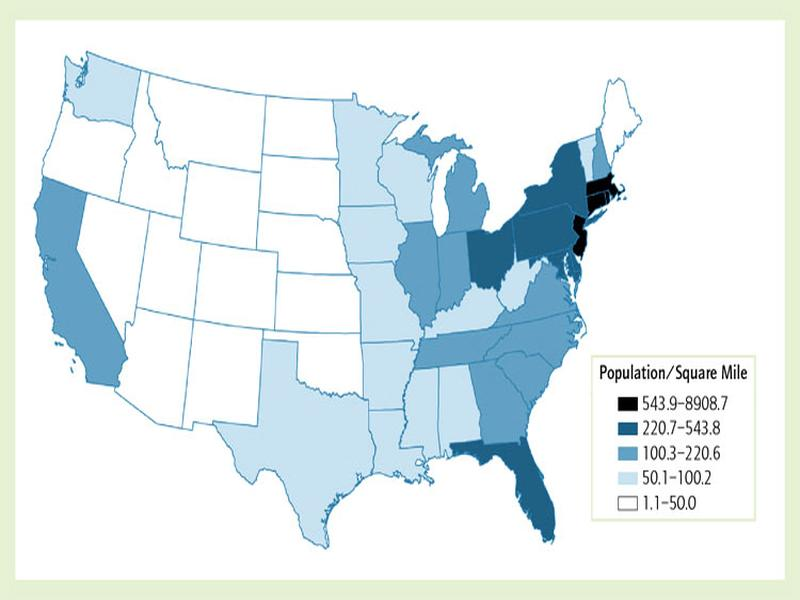legend: (589, 354, 759, 523)
